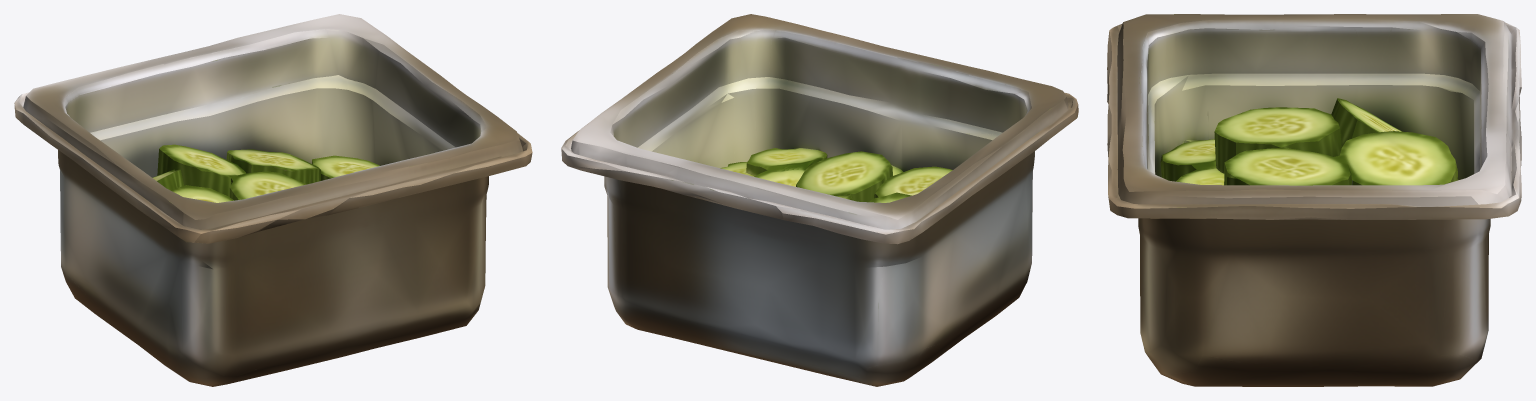
The model's file is Cucumber_v2.glb.
3 views of the same model, side by side, from view 1: azimuth 30°, elevation 25°; view 2: azimuth 150°, elevation 25°; view 3: azimuth 270°, elevation 25° (orthographic). The views are drawn at different scales.
Parts seen in each view (by area): view 1: geometry_0; view 2: geometry_0; view 3: geometry_0.
Part boxes in pixels (<box>): geometry_0: <box>14,14,532,386</box>; geometry_0: <box>561,14,1078,386</box>; geometry_0: <box>1107,14,1521,386</box>.
Bounding box in the file's own units: 0.15 × 0.08 × 0.14.
Materials: 1 (1 with a texture image).
